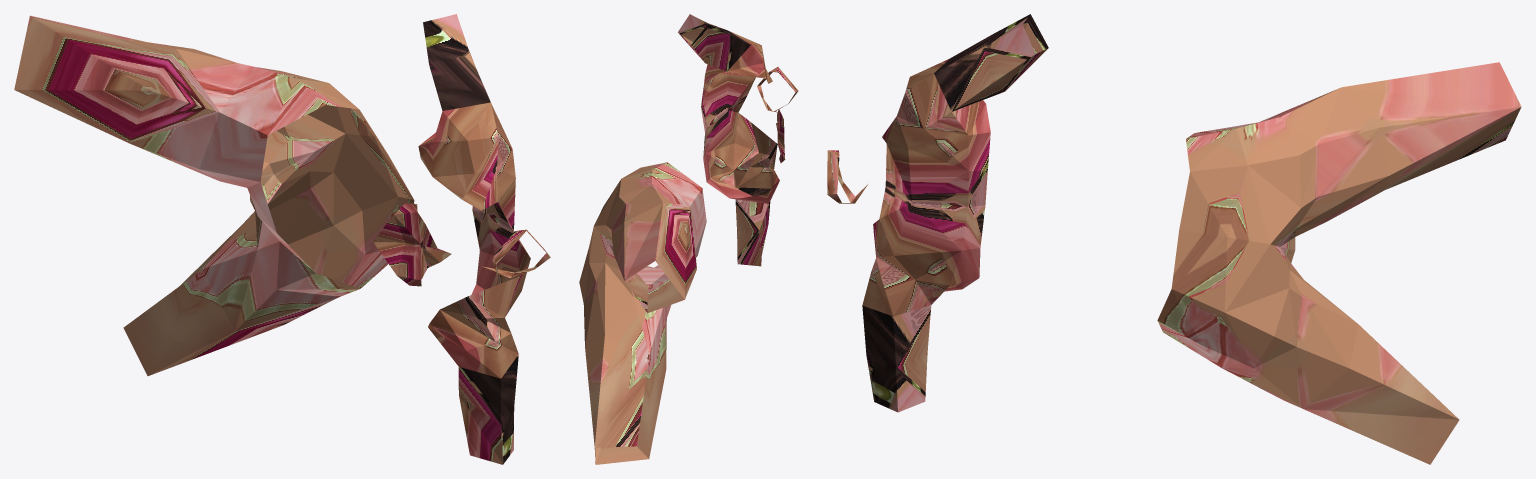
Rendered from a_hj_f_clo_01_01.obj.
The picture shows the model from 3 angles, left to right: view 1: azimuth 30°, elevation 25°; view 2: azimuth 150°, elevation 25°; view 3: azimuth 270°, elevation 25°; orthographic projection. The views are drawn at different scales.
Size of the model in its own units: 9.59 by 16.69 by 22.14.
